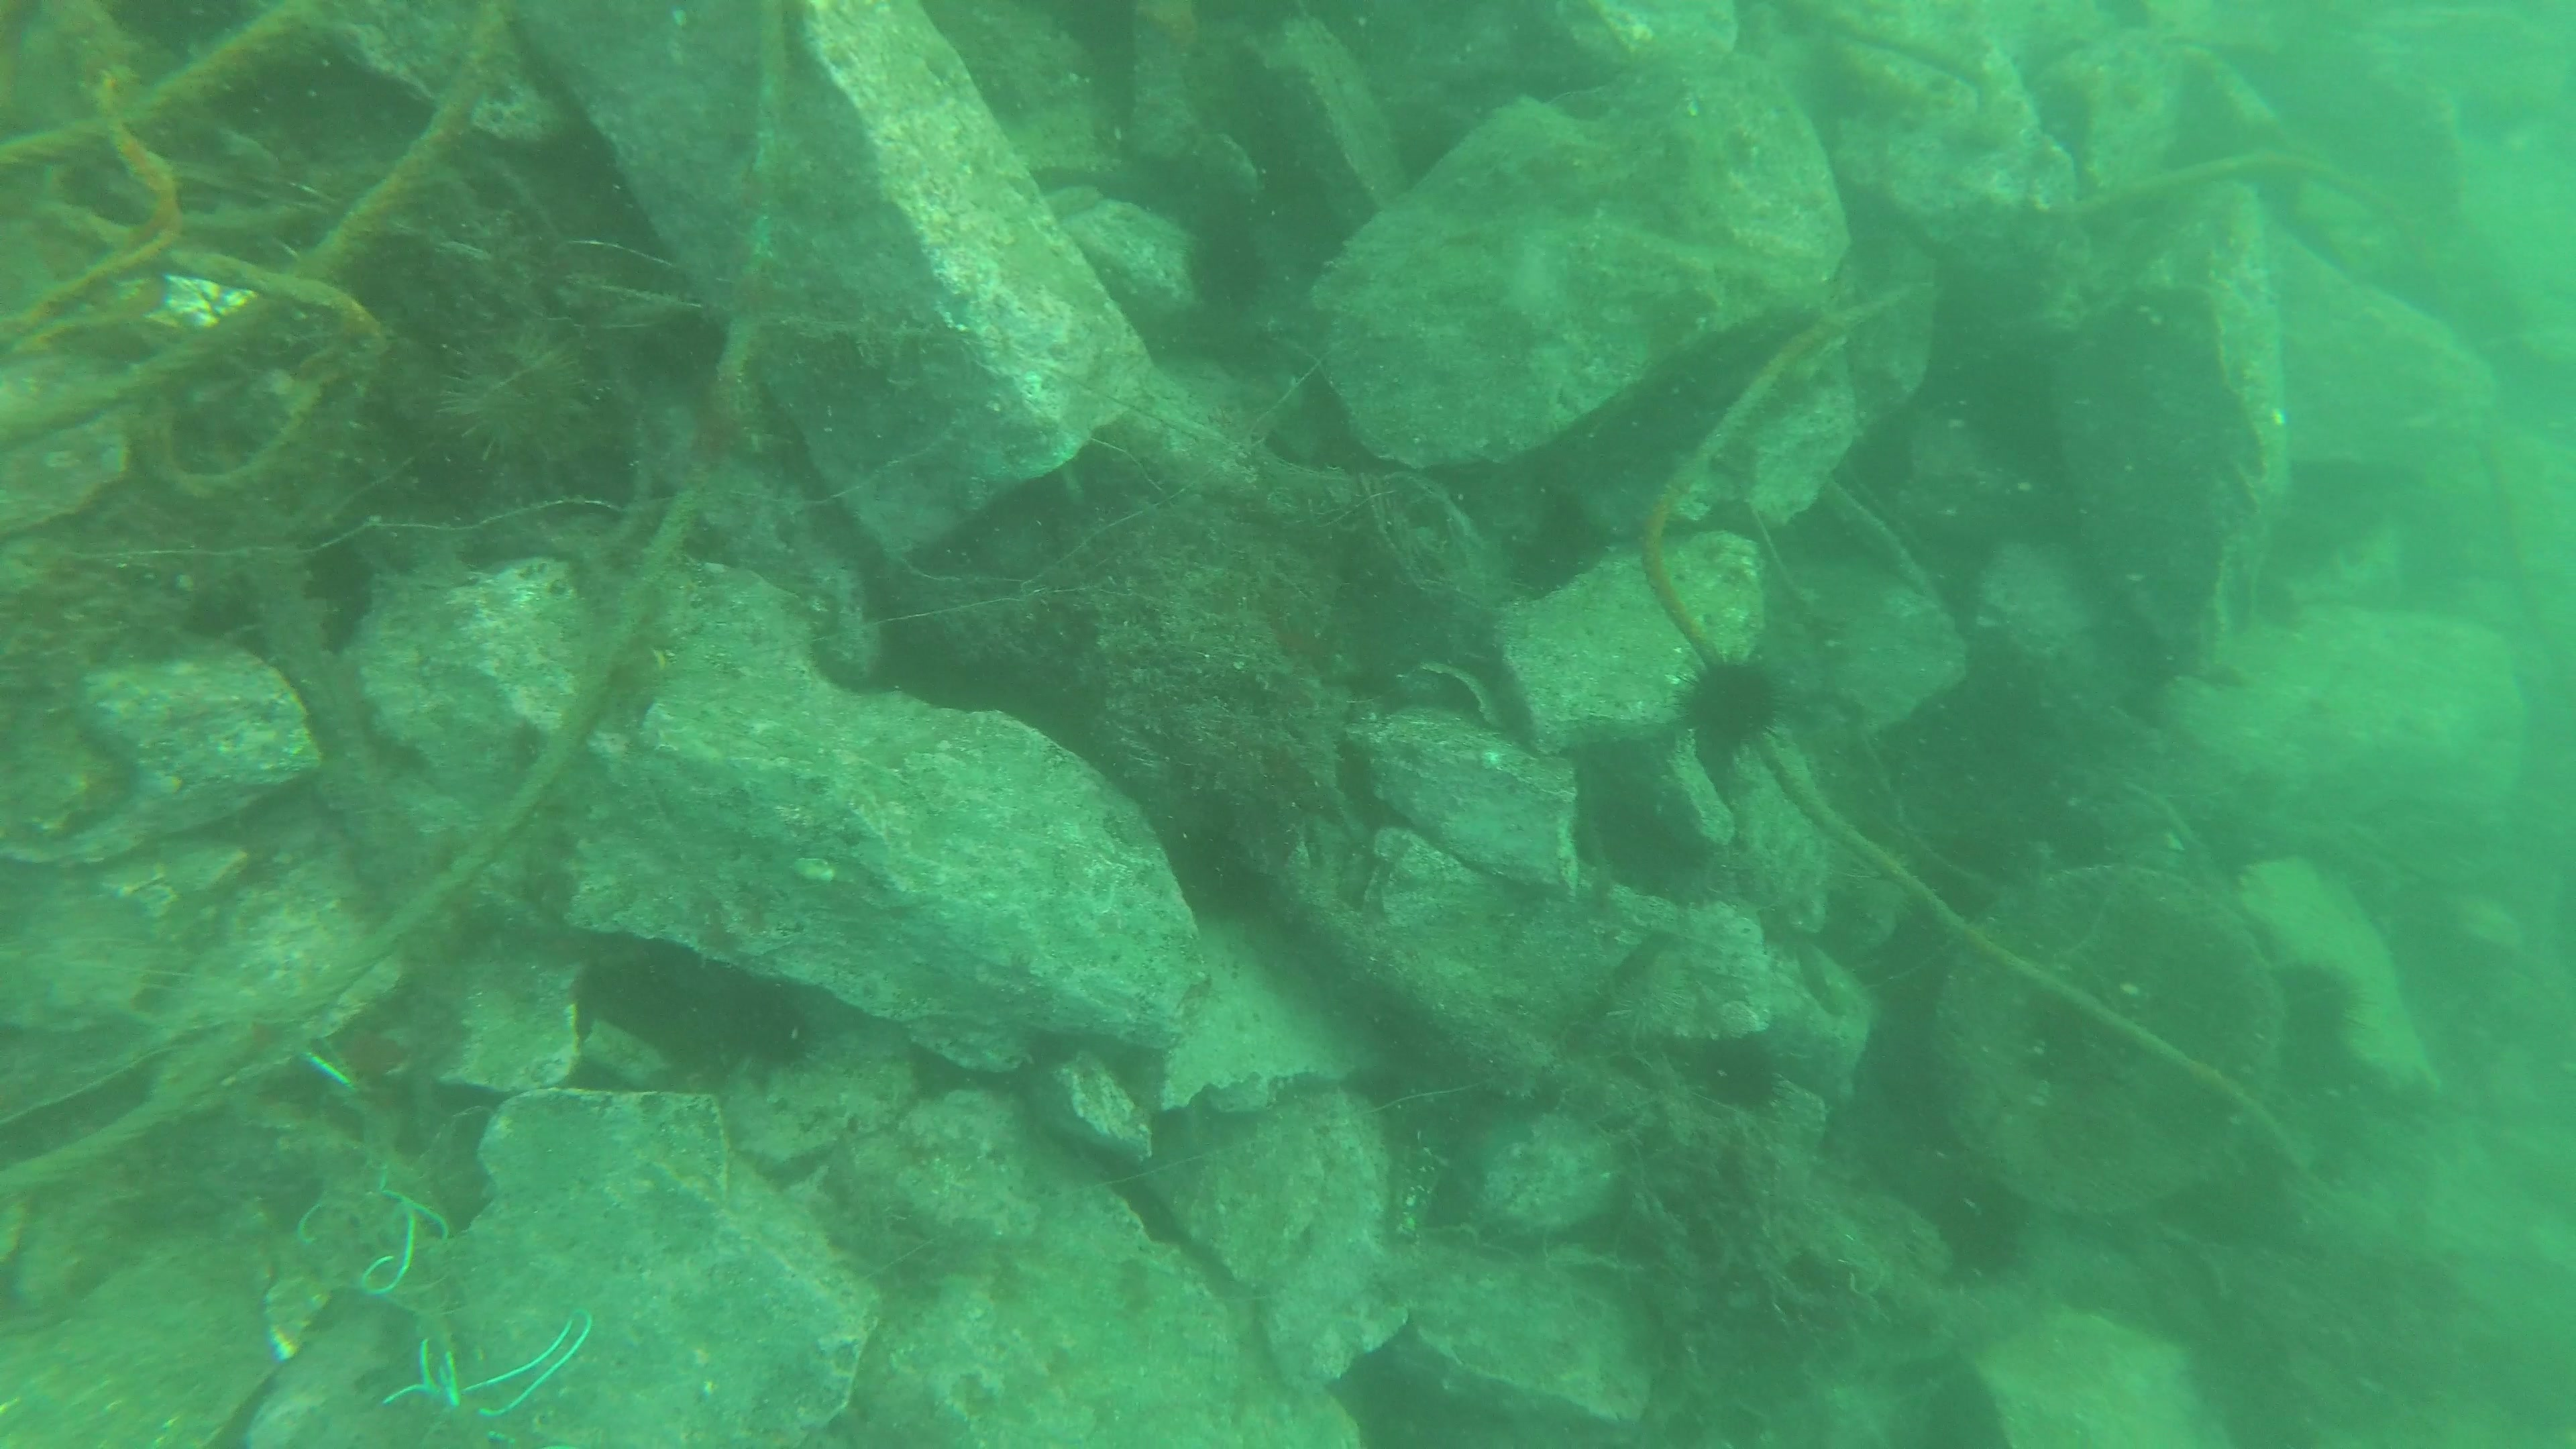echinus: (435, 322, 598, 465), (1665, 649, 1789, 764), (1171, 200, 1283, 327), (1681, 1019, 1792, 1122)
